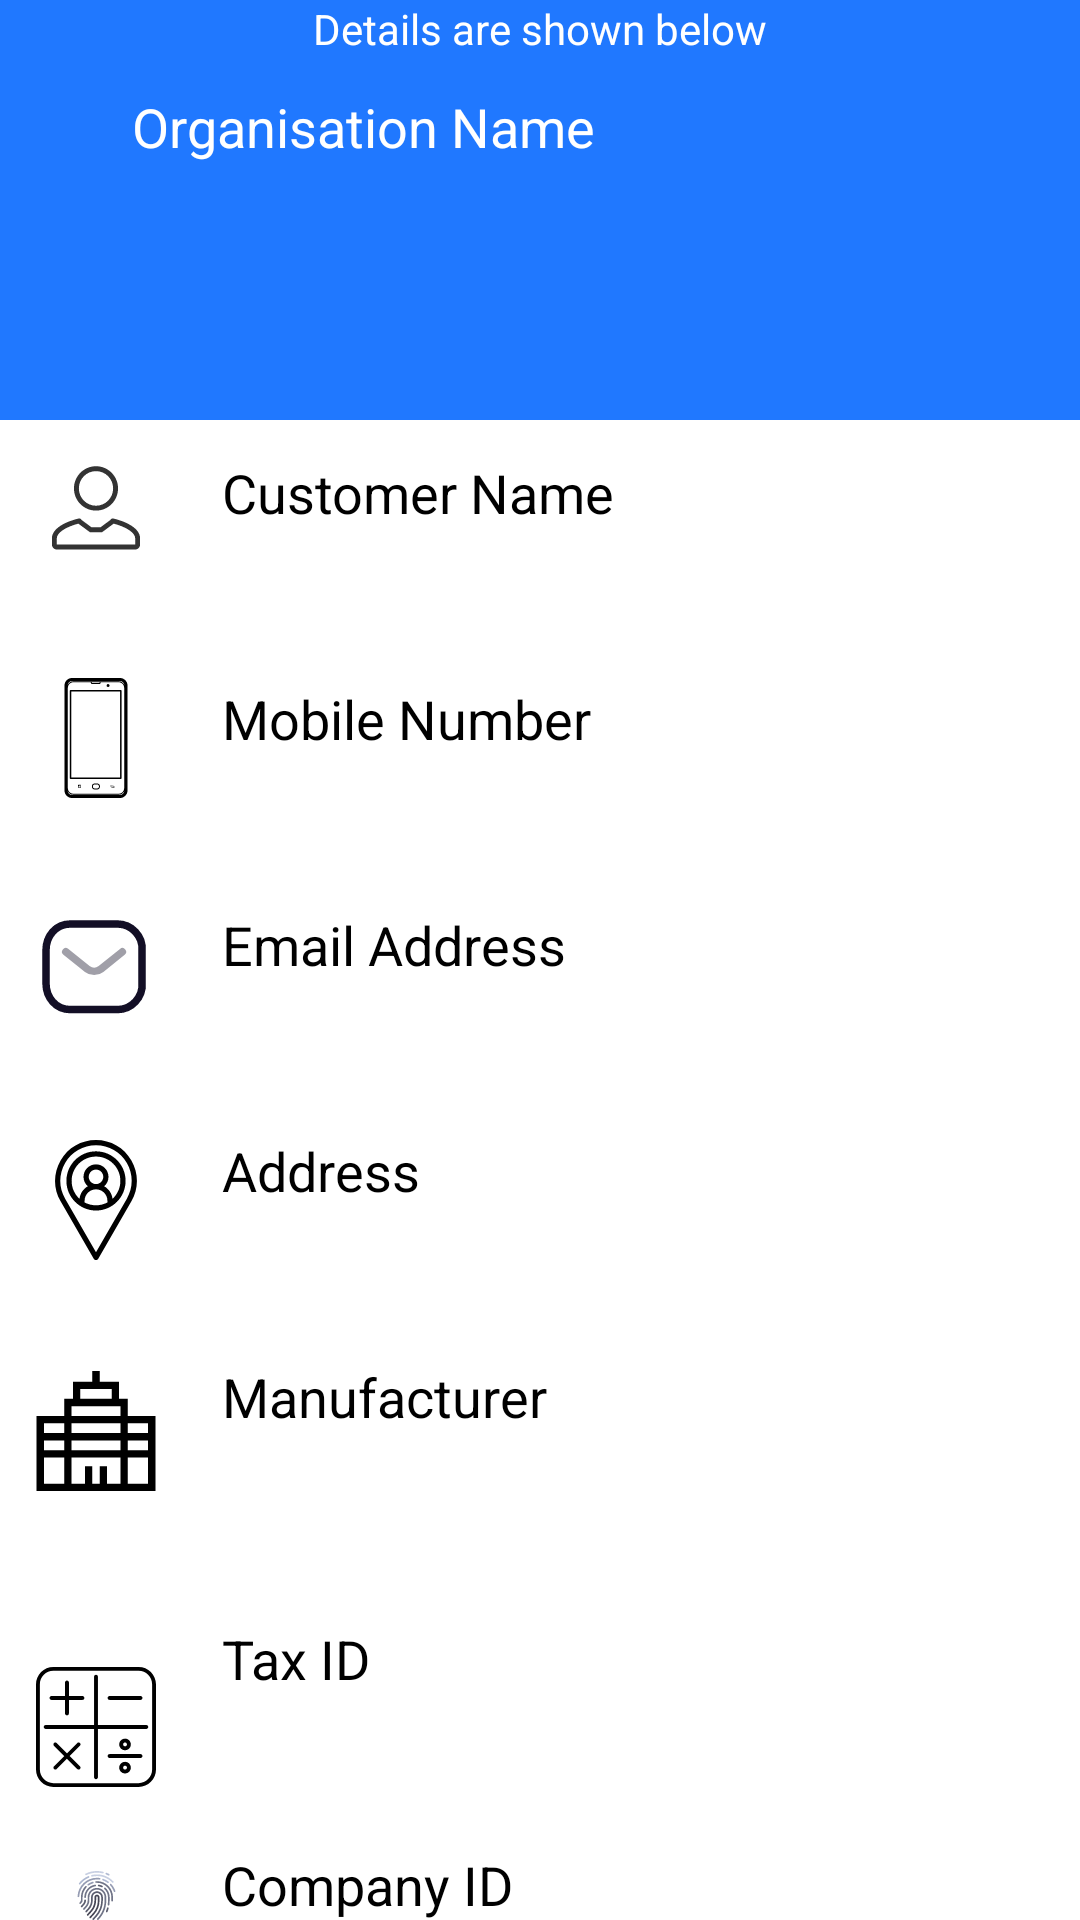

Icons on this 1080px×1920px Android screen, each with the point to tap as (x,y):
calculator: (96,1727)
fingerprint: (96,1895)
location: (96,1200)
message: (94,967)
office: (96,1431)
person: (96,508)
phone: (96,738)
